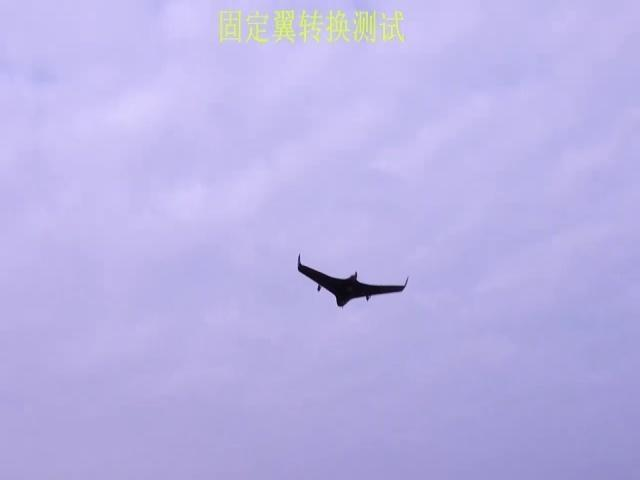Airplane: (297, 253, 409, 310)
